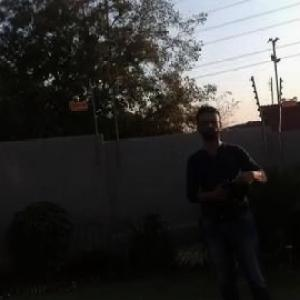follow: (180, 94, 280, 299)
